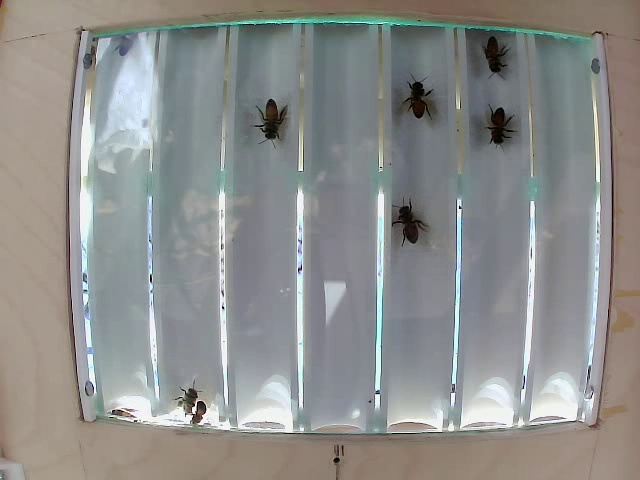bee: (392, 186, 435, 249), (251, 100, 290, 153), (476, 30, 512, 84), (483, 93, 510, 157), (403, 75, 435, 117)
